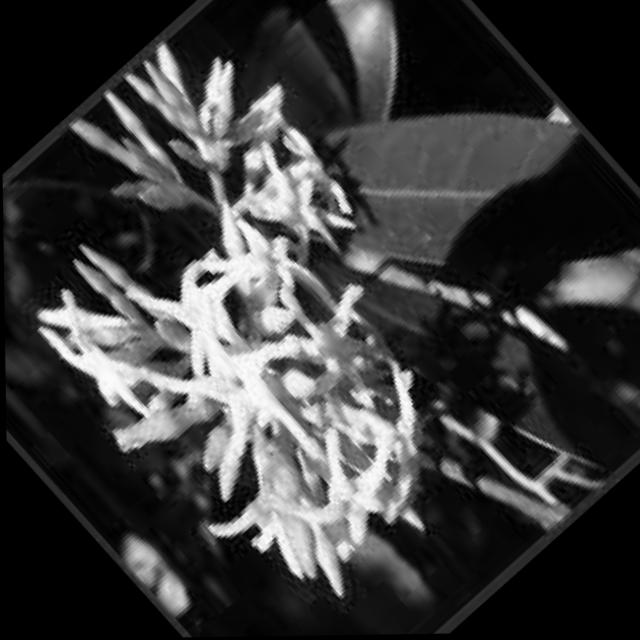Flower: (2, 131, 493, 640)
